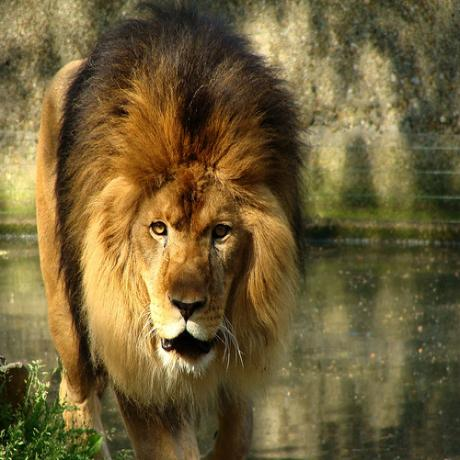Lion: (34, 13, 304, 460)
